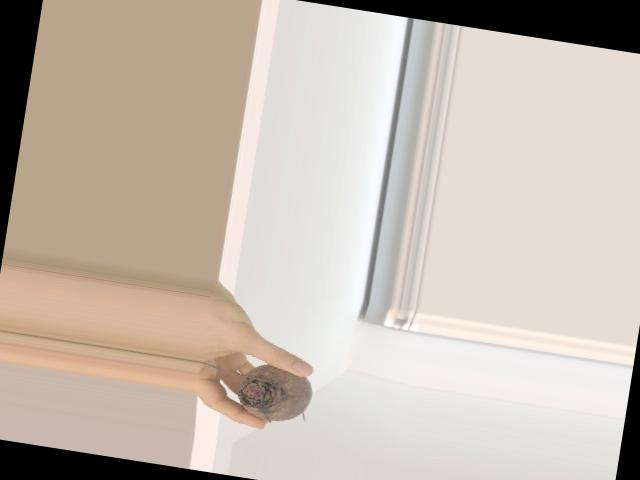beet: (192, 352, 316, 428)
